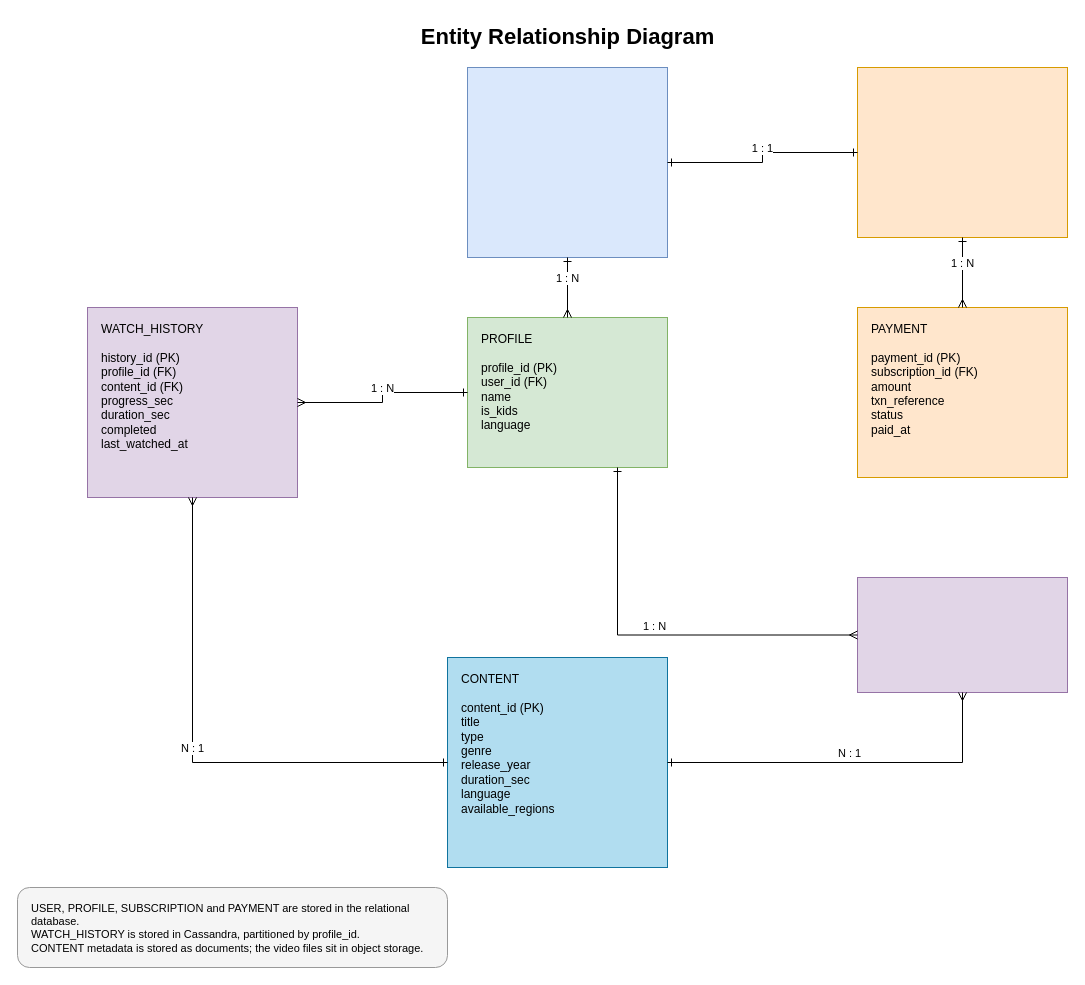
Image size: 1085x985. Some labels were removed from this diagram. Here are the shapes that lost their labels. From the top down, the box of each, then its label:
(466, 66, 668, 258): USER user_id (PK) email password_hash phone name country_code created_at
(856, 66, 1068, 238): SUBSCRIPTION subscription_id (PK) user_id (FK) plan start_date end_date status
(856, 576, 1068, 692): MY_LIST profile_id (FK) content_id (FK) added_at
